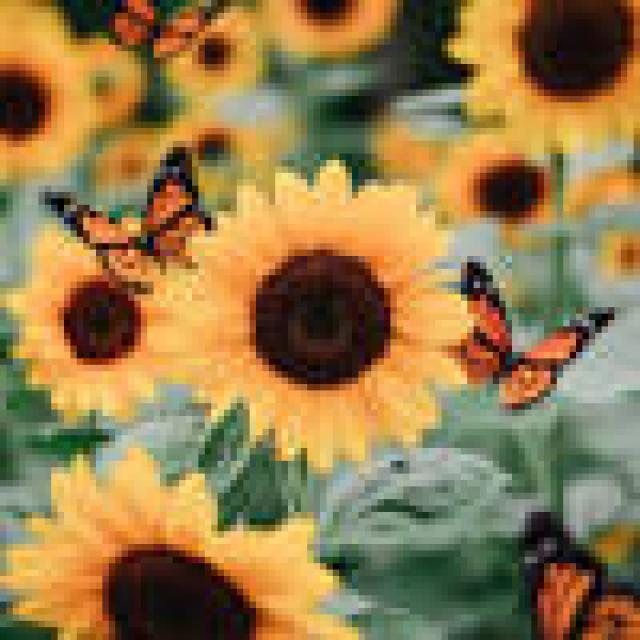sunflower: (179, 160, 493, 474), (26, 454, 346, 640), (7, 218, 198, 422), (441, 3, 640, 150), (160, 16, 269, 99)
